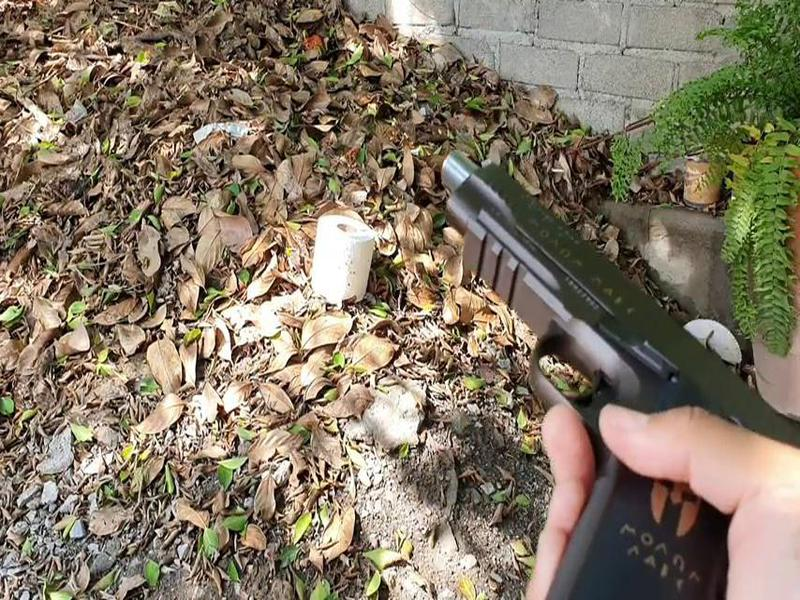Pistola: (417, 135, 800, 589)
